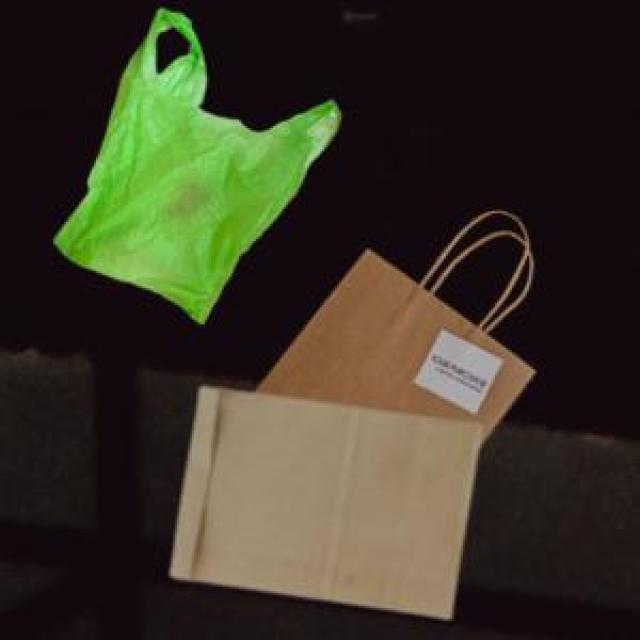paper: (166, 384, 478, 614), (250, 226, 531, 446)
